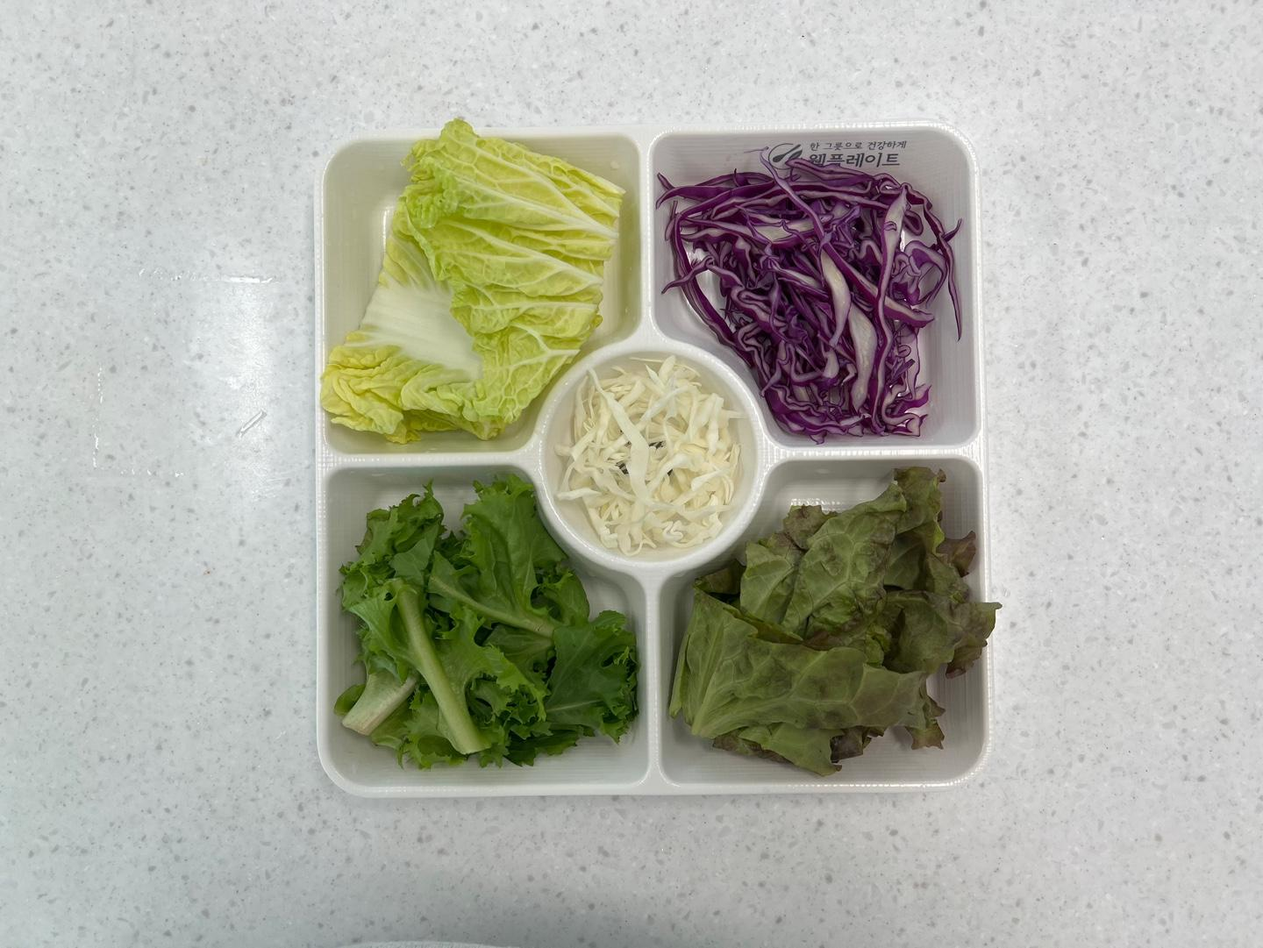food: (319, 119, 624, 445), (664, 469, 996, 757), (334, 468, 644, 757), (659, 148, 960, 442), (687, 487, 981, 783), (330, 132, 631, 414), (665, 151, 960, 433), (341, 498, 636, 767), (560, 353, 743, 561), (564, 352, 735, 552)
